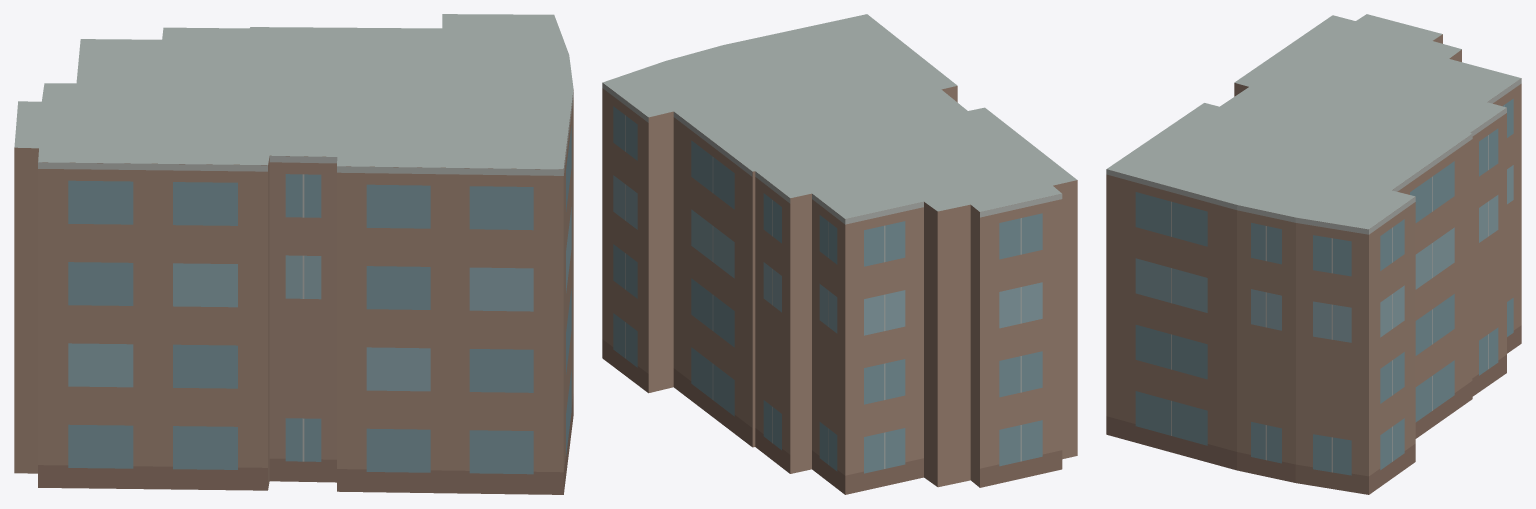
File: survey-upis-32920527.glb
3 views of the same model, side by side, from view 1: azimuth 30°, elevation 25°; view 2: azimuth 150°, elevation 25°; view 3: azimuth 270°, elevation 25° (orthographic). The views are drawn at different scales.
Visible parts, largest first — view 1: survey-upis-32920527.tmp; view 2: survey-upis-32920527.tmp; view 3: survey-upis-32920527.tmp.
Boxes of the visible parts, x1,y1,x2,y2 form: survey-upis-32920527.tmp: (14,14,573,494); survey-upis-32920527.tmp: (602,14,1077,494); survey-upis-32920527.tmp: (1106,14,1521,494).
Size of the model in its own units: 21.24 by 12.2 by 17.3.
